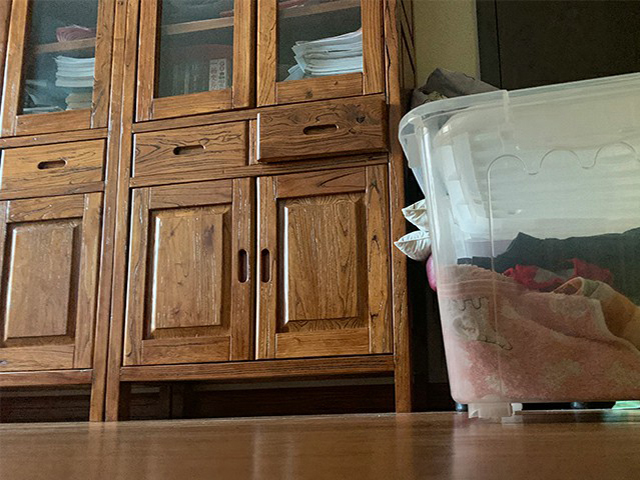cabinet: (1, 88, 407, 421)
